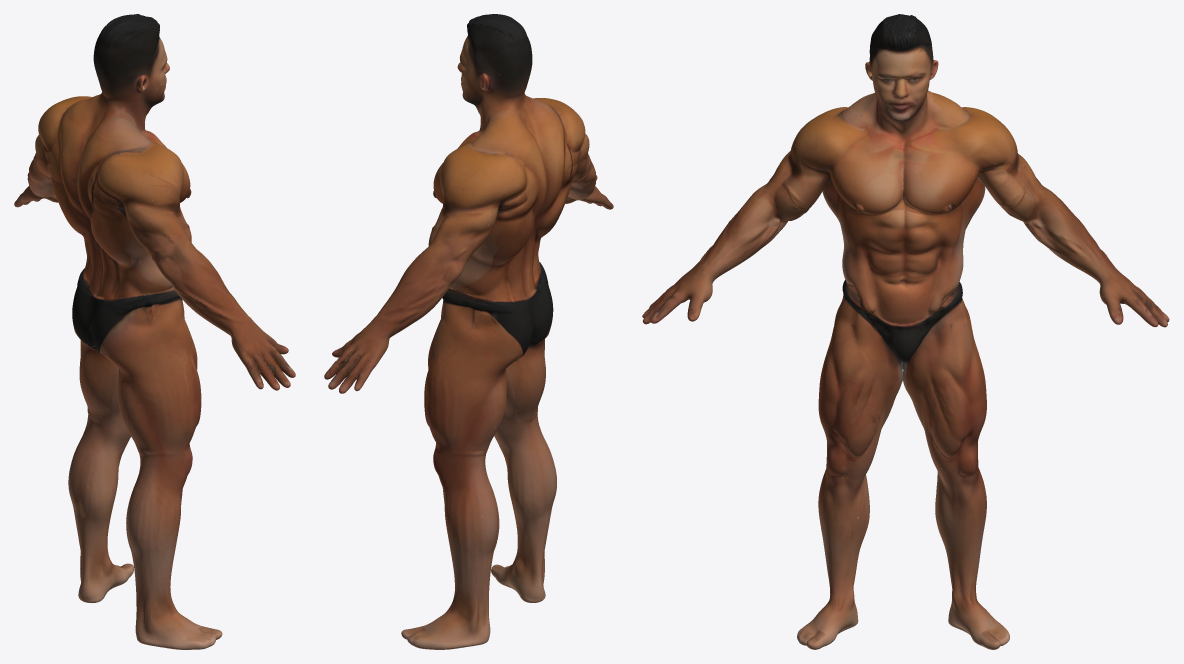
File: TEST_BOI_3D.fbx
3 views of the same model, side by side, from view 1: azimuth 30°, elevation 25°; view 2: azimuth 150°, elevation 25°; view 3: azimuth 270°, elevation 25° (orthographic).
Visible parts, largest first — view 1: tripo_node_932fa733; view 2: tripo_node_932fa733; view 3: tripo_node_932fa733.
Boxes of the visible parts, x1,y1,x2,y2 form: tripo_node_932fa733: [14, 14, 295, 649]; tripo_node_932fa733: [324, 14, 613, 649]; tripo_node_932fa733: [642, 14, 1169, 649].
Size of the model in its own units: 0.203 by 1 by 0.7828.
1 material, 1 textured.
